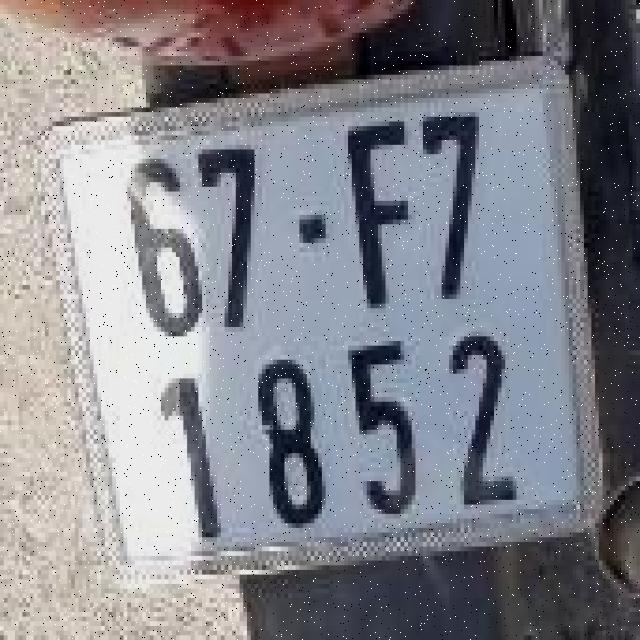1: (154, 367, 228, 544)
2: (443, 329, 526, 512)
5: (343, 334, 421, 526)
6: (122, 150, 200, 341)
7: (198, 138, 270, 338), (419, 105, 487, 306)
8: (249, 355, 331, 533)
F: (344, 112, 416, 318)
